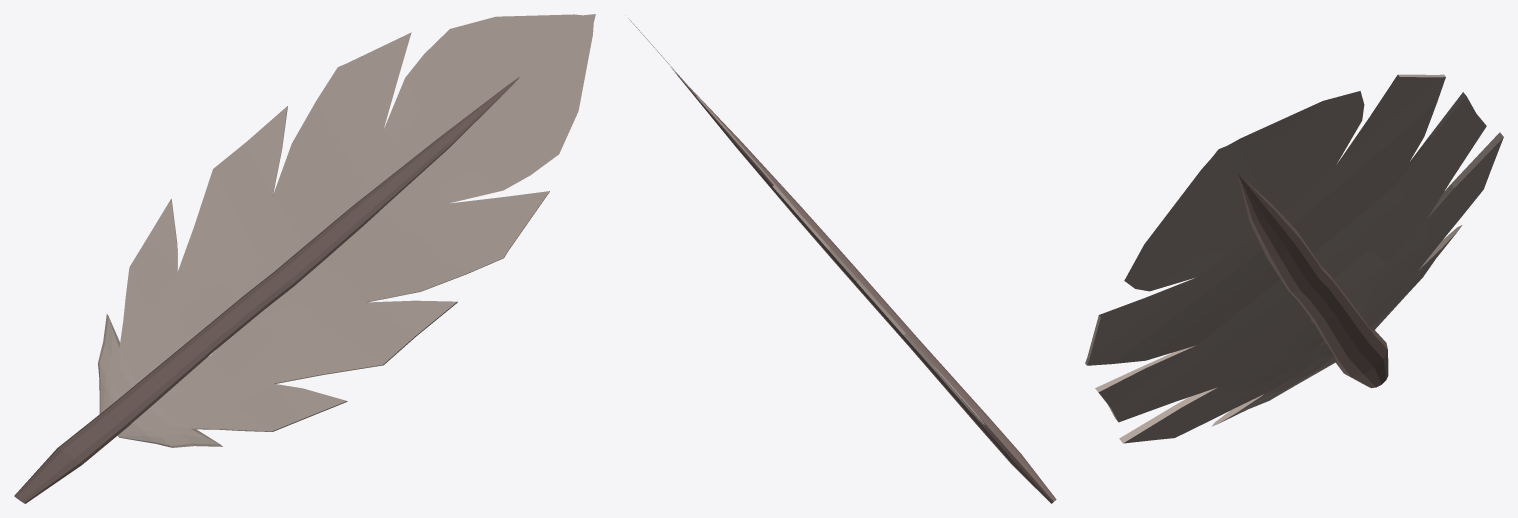
File: pena.glb
3 renders of one model, left to right at view 1: azimuth 30°, elevation 25°; view 2: azimuth 150°, elevation 25°; view 3: azimuth 270°, elevation 25°, orthographic. The views are drawn at different scales.
Parts seen in each view (by area): view 1: Cylinder.001; view 2: Cylinder.001; view 3: Cylinder.001.
Part boxes in pixels (x1=…): Cylinder.001: x1=14, y1=14, x2=595, y2=503; Cylinder.001: x1=625, y1=15, x2=1056, y2=503; Cylinder.001: x1=1085, y1=74, x2=1503, y2=443.
Size of the model in its own units: 7.01 by 4.92 by 2.69.
